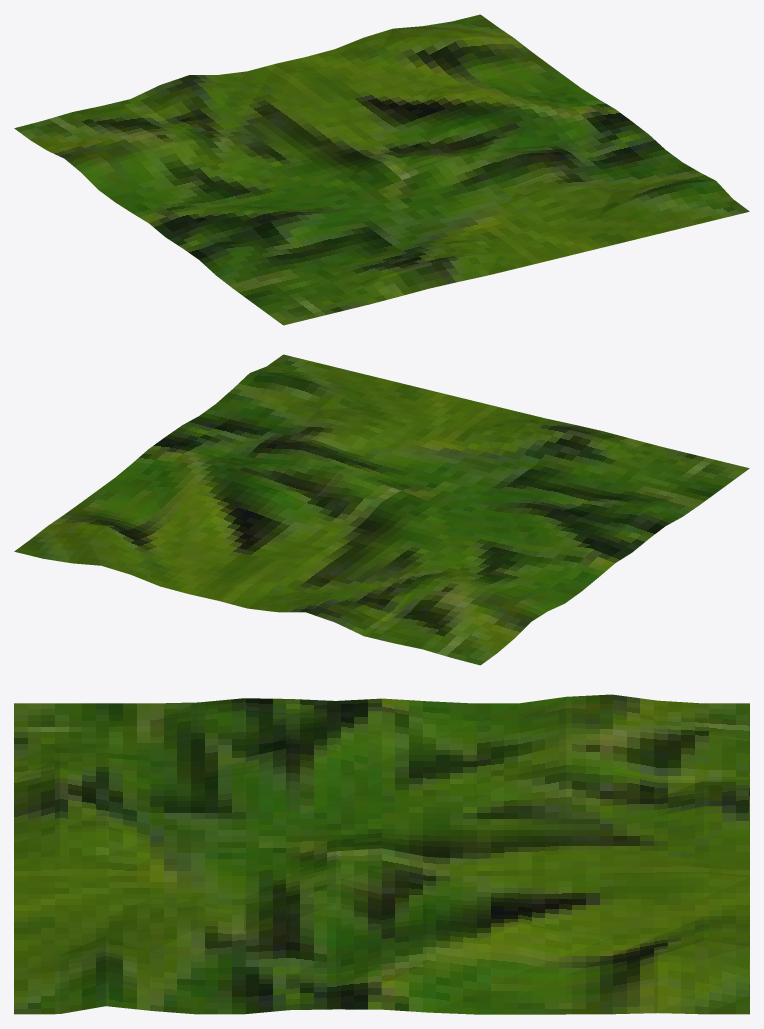
The model's file is test_ground.obj.
3 views of the same model, one above another, from view 1: azimuth 30°, elevation 25°; view 2: azimuth 150°, elevation 25°; view 3: azimuth 270°, elevation 25° (orthographic). The views are drawn at different scales.
Visible parts, largest first — view 1: Plane; view 2: Plane; view 3: Plane.
Part boxes in pixels (bbox=[...]): Plane: bbox=[14, 14, 749, 325]; Plane: bbox=[14, 354, 749, 665]; Plane: bbox=[14, 694, 749, 1014].
Size of the model in its own units: 39.89 by 1.2 by 39.86.
